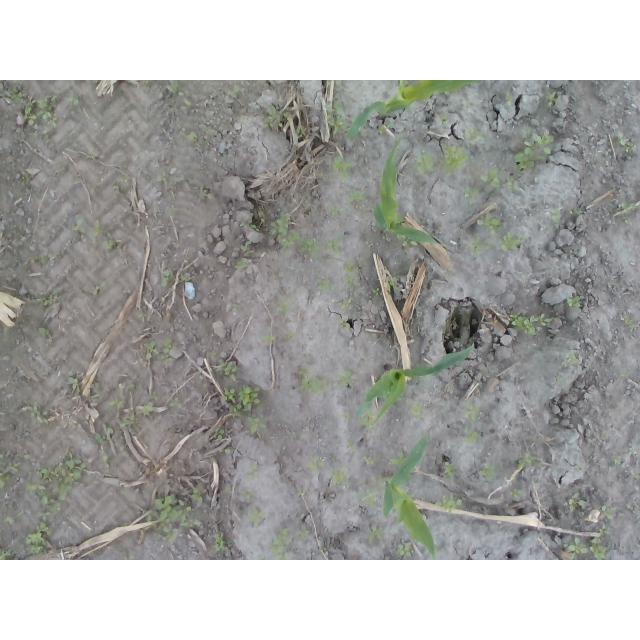Maize: (358, 345, 475, 423), (350, 80, 479, 137), (384, 436, 437, 560), (372, 139, 434, 244)
Weeds: (26, 448, 87, 520), (143, 494, 194, 543), (514, 126, 555, 170), (510, 307, 553, 337), (222, 385, 262, 416), (24, 94, 61, 127), (479, 165, 520, 193), (271, 215, 303, 249), (23, 524, 54, 557), (295, 365, 328, 395), (440, 144, 469, 177), (0, 446, 20, 493), (322, 99, 347, 134), (143, 336, 173, 365), (298, 237, 323, 265), (616, 129, 638, 159), (271, 528, 291, 561), (477, 211, 504, 235), (590, 528, 609, 561), (563, 536, 589, 560), (331, 154, 353, 182), (501, 231, 528, 253), (214, 360, 239, 382), (403, 399, 426, 422), (335, 367, 355, 393), (435, 494, 462, 513), (331, 466, 353, 489), (242, 508, 267, 528), (618, 200, 638, 224), (358, 486, 378, 510), (260, 110, 284, 129), (463, 398, 481, 423), (346, 189, 369, 208), (30, 400, 48, 424), (277, 297, 300, 315), (463, 186, 481, 209), (517, 452, 540, 469), (191, 486, 210, 506), (95, 425, 114, 445), (414, 153, 432, 174), (385, 270, 401, 293), (30, 292, 58, 305), (478, 463, 498, 481), (545, 89, 561, 111), (318, 277, 336, 296), (248, 416, 267, 434), (362, 408, 379, 428), (368, 526, 385, 546), (106, 399, 126, 416), (326, 239, 344, 257), (543, 206, 561, 224), (213, 531, 227, 554), (304, 455, 324, 471), (396, 233, 418, 247), (344, 260, 355, 288), (167, 80, 185, 97), (389, 448, 408, 464), (295, 527, 311, 546), (178, 130, 198, 145), (192, 183, 209, 200), (6, 87, 23, 104), (464, 428, 481, 445), (65, 367, 80, 385), (467, 127, 486, 141), (566, 295, 582, 310), (400, 540, 413, 558), (30, 255, 51, 266), (72, 225, 87, 240), (99, 449, 113, 465), (223, 85, 241, 97), (339, 297, 354, 311), (92, 222, 106, 237), (32, 326, 51, 337), (120, 416, 136, 429), (160, 270, 172, 287), (470, 238, 480, 258), (247, 463, 258, 481), (62, 95, 80, 106), (625, 317, 636, 335), (602, 507, 617, 520), (565, 498, 580, 511), (240, 490, 255, 503), (168, 397, 184, 409), (0, 548, 16, 560), (327, 207, 346, 217), (371, 288, 382, 305), (346, 440, 359, 453), (143, 403, 154, 418), (233, 259, 248, 270), (446, 463, 457, 478), (255, 336, 273, 345), (104, 238, 117, 250), (378, 124, 392, 135), (1, 516, 16, 526), (218, 447, 234, 456), (179, 272, 193, 282), (339, 317, 350, 329), (242, 246, 254, 257), (510, 487, 523, 497), (239, 223, 257, 230), (365, 455, 376, 466), (612, 455, 624, 465), (184, 98, 193, 111), (215, 429, 225, 440), (295, 127, 306, 137), (231, 303, 241, 313), (119, 174, 130, 183), (505, 94, 513, 106), (567, 354, 577, 363), (296, 488, 305, 497), (141, 80, 151, 88), (440, 116, 449, 124), (156, 175, 166, 182), (26, 176, 33, 185), (257, 556, 269, 561)
